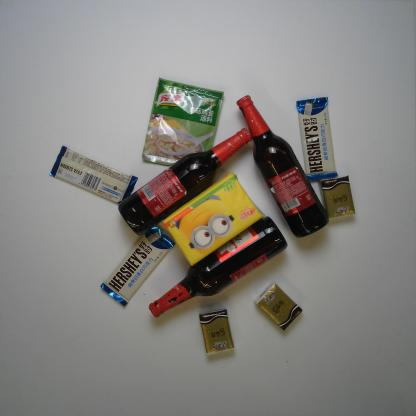Alcohol: (117, 126, 253, 236), (148, 214, 289, 318), (236, 94, 330, 239)
Chocolate: (100, 225, 176, 308), (48, 144, 138, 204), (296, 95, 338, 183)
Seasoner: (141, 76, 225, 166)
Tissue: (162, 171, 266, 267), (253, 281, 304, 332), (318, 173, 356, 221), (198, 308, 235, 356)
